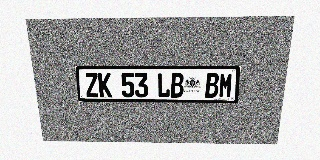3: (134, 73, 148, 97)
5: (121, 73, 135, 97)
B: (170, 73, 184, 98), (205, 73, 219, 98)
K: (98, 73, 112, 97)
L: (157, 73, 170, 97)
M: (218, 73, 233, 98)
Z: (85, 73, 99, 97)
